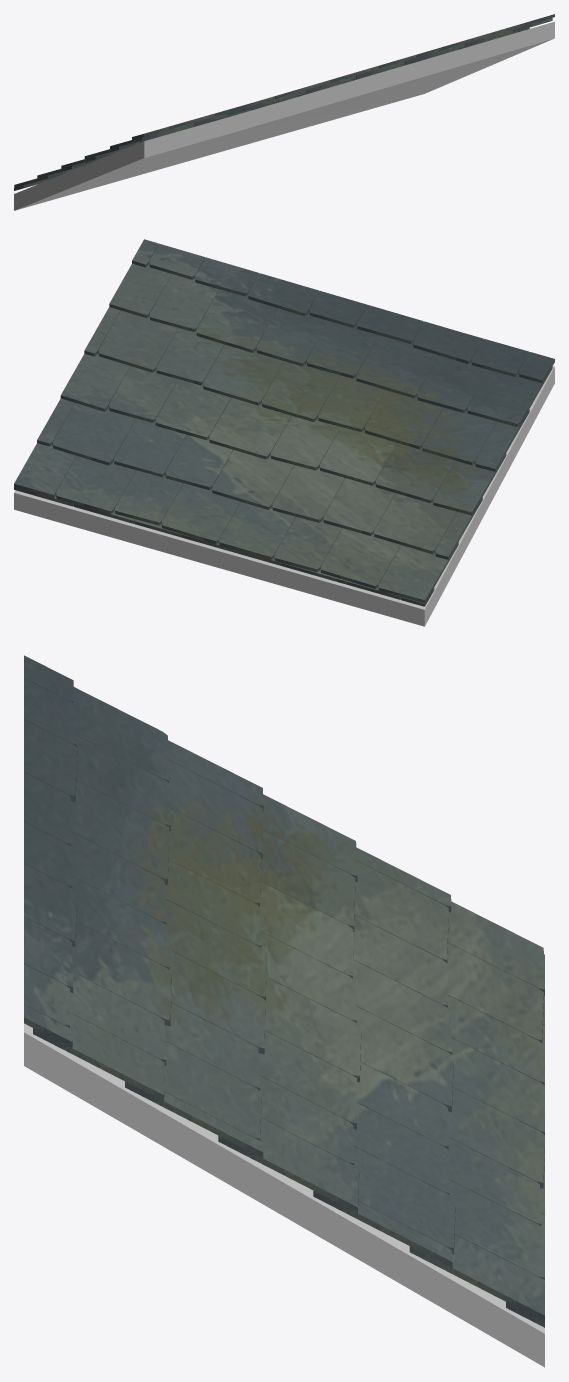
Rendered from CM_SlateRoofKit01_Fitted_DeepEntryFold.fbx.
The picture shows the model from 3 angles, top to bottom: view 1: azimuth 30°, elevation 25°; view 2: azimuth 150°, elevation 25°; view 3: azimuth 270°, elevation 25°; orthographic projection. The views are drawn at different scales.
Parts seen in each view (by area): view 1: CM_SlateRoofKit01_Fitted_DeepEntryFold_Underlay, CM_SlateRoofKit01_Fitted_DeepEntryFold_Slate; view 2: CM_SlateRoofKit01_Fitted_DeepEntryFold_Slate, CM_SlateRoofKit01_Fitted_DeepEntryFold_Underlay; view 3: CM_SlateRoofKit01_Fitted_DeepEntryFold_Slate, CM_SlateRoofKit01_Fitted_DeepEntryFold_Underlay.
Boxes of the visible parts, <box> form: CM_SlateRoofKit01_Fitted_DeepEntryFold_Underlay: <box>14,21,554,210</box>; CM_SlateRoofKit01_Fitted_DeepEntryFold_Slate: <box>14,14,554,190</box>; CM_SlateRoofKit01_Fitted_DeepEntryFold_Slate: <box>14,239,554,606</box>; CM_SlateRoofKit01_Fitted_DeepEntryFold_Underlay: <box>14,366,554,626</box>; CM_SlateRoofKit01_Fitted_DeepEntryFold_Slate: <box>24,655,544,1327</box>; CM_SlateRoofKit01_Fitted_DeepEntryFold_Underlay: <box>24,1023,544,1367</box>.
Size of the model in its own units: 2.55 by 1.14 by 1.4.
